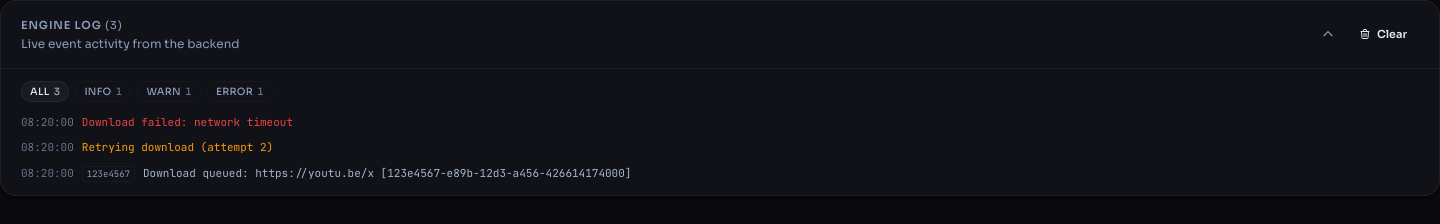
LogPanel › clears all entries via the Clear button
Click the button with aria-label "clear log". click: [1383, 34]
box: [1347,20,1419,48]
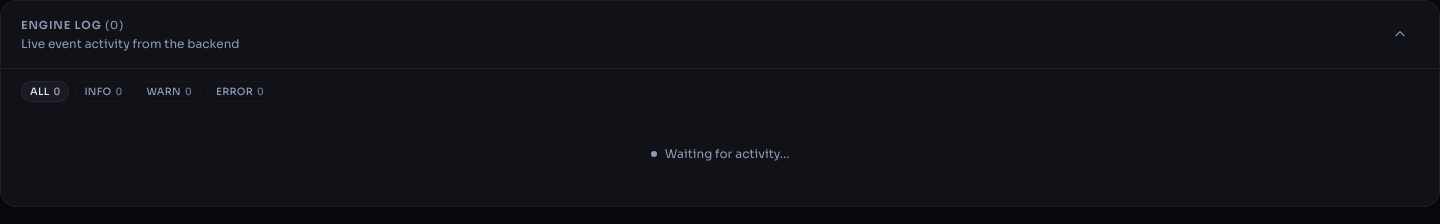
expect the text "Waiting for activity..." is shown: met, box [651,146,789,162]
